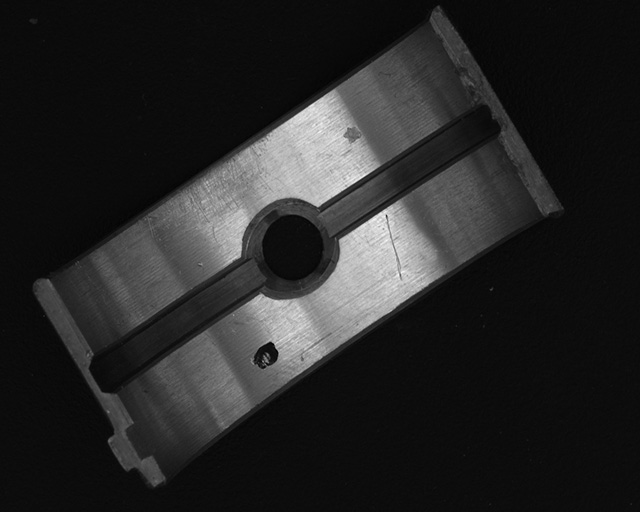blot: (253, 340, 280, 371)
bruise: (342, 125, 363, 145)
gap: (320, 104, 501, 239), (91, 259, 268, 392)
hole: (243, 200, 340, 298)
nick: (385, 214, 405, 282)
scratch: (127, 130, 274, 240)
